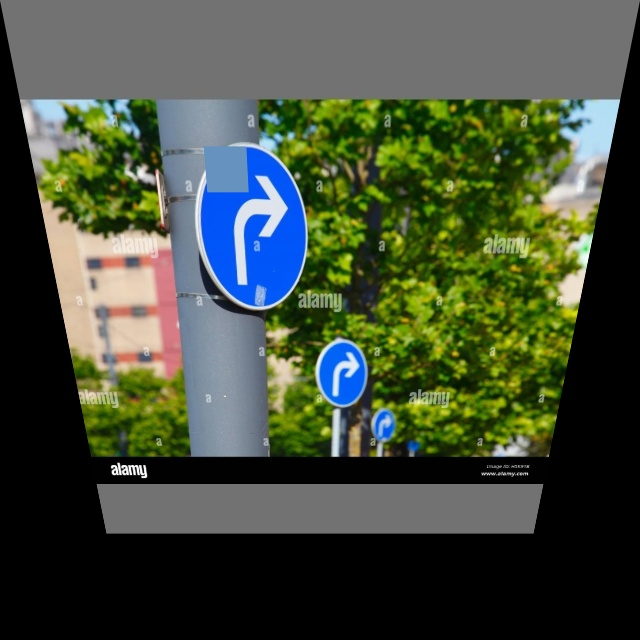Compulsory_Turn_Right_Ahead: (191, 145, 304, 309)
